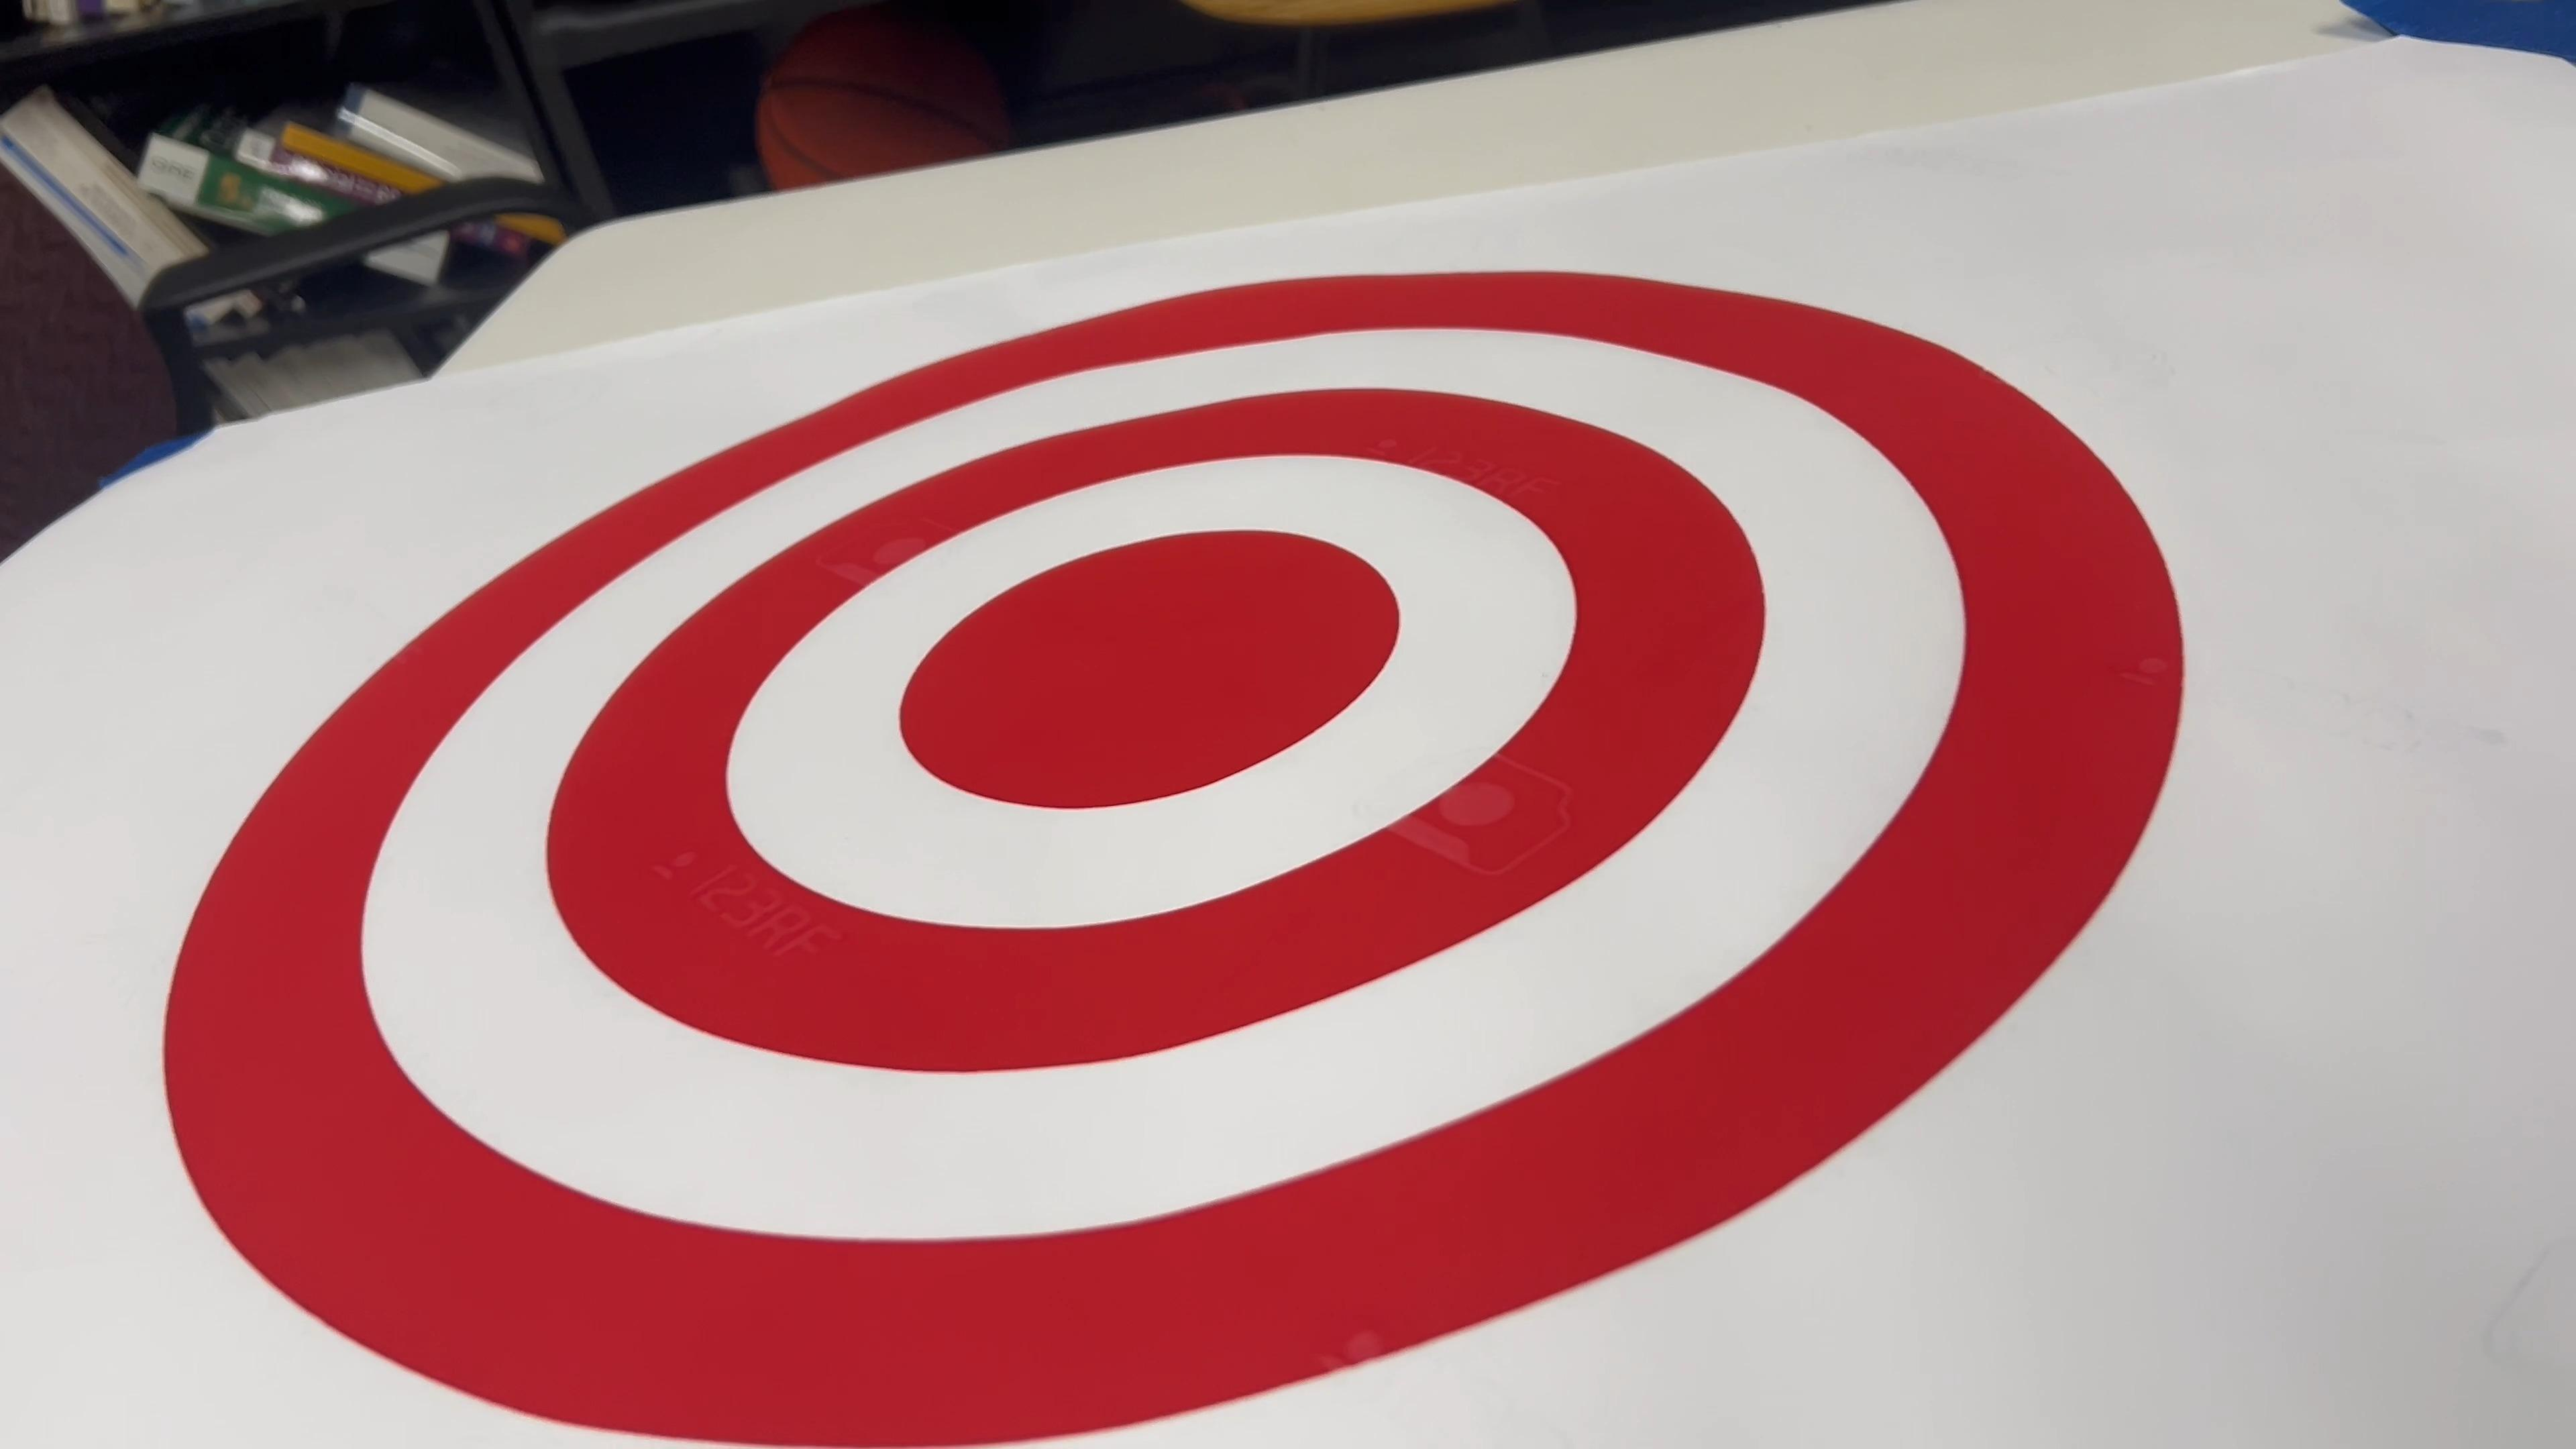target_red: (55, 196, 2220, 1449)
